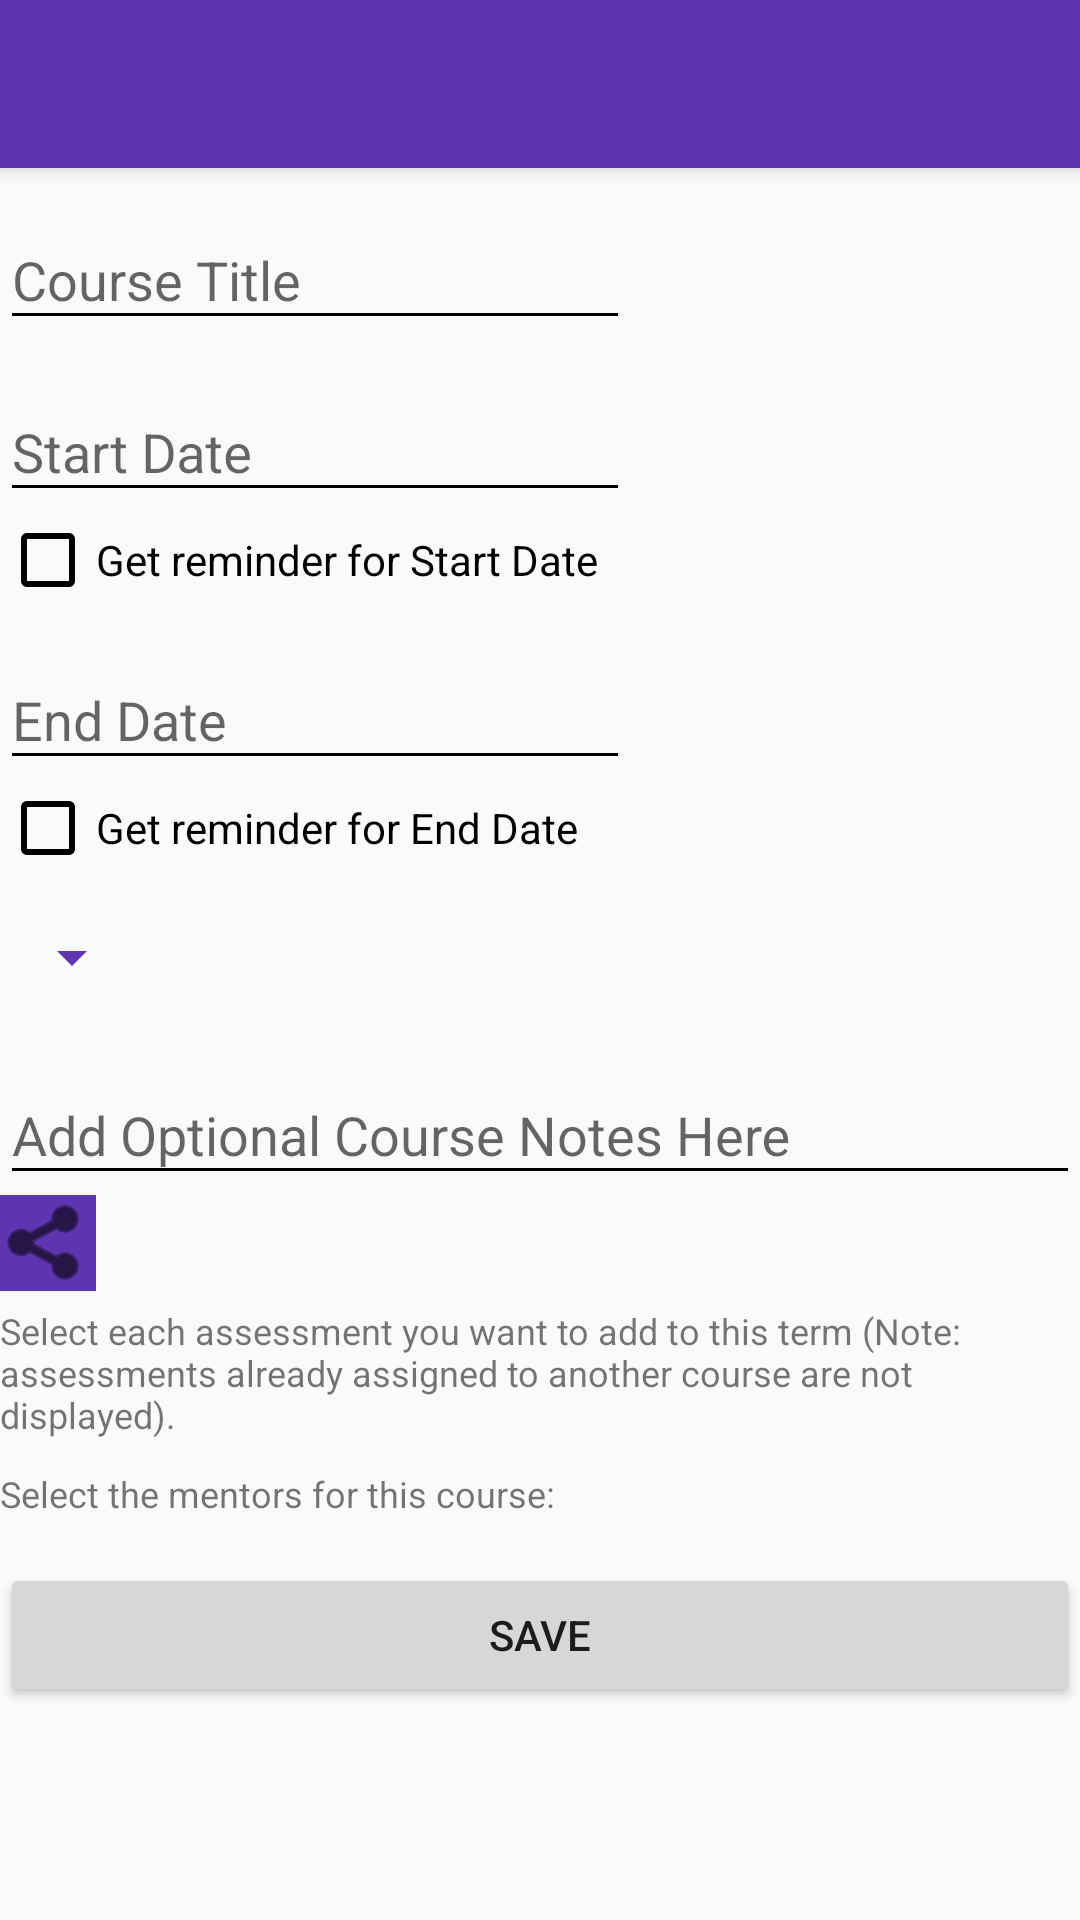

Named icons in this screenshot (1080px×1920px) and their bounding boxes, (x1, y1, x2, y2):
share: (0, 1195, 96, 1291)
